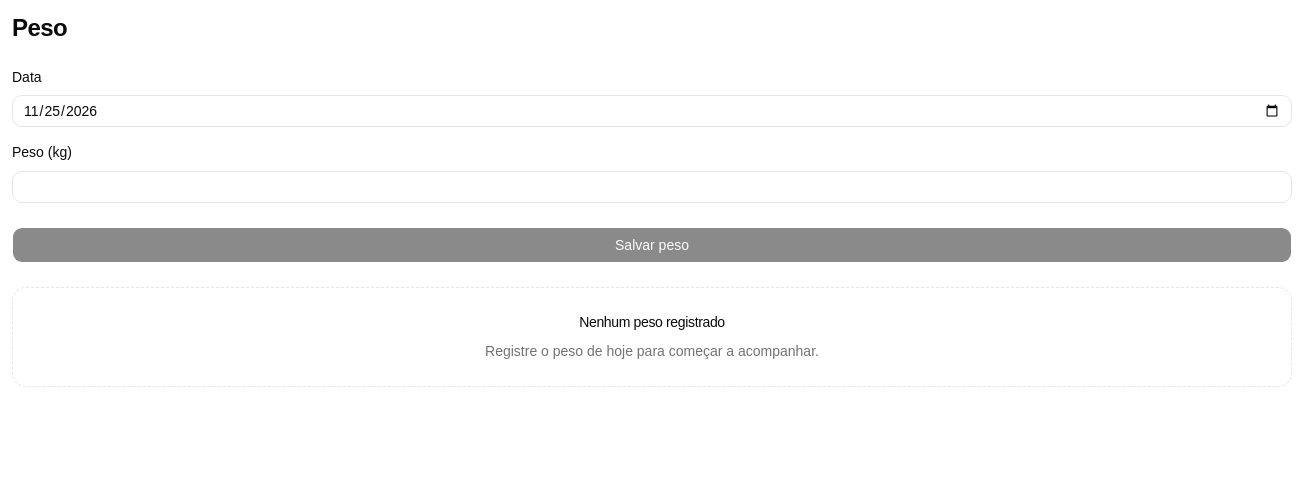
WeightPage › keeps the value and shows the problem when the server refuses the weight
expect the text "Nenhum peso registrado" is shown: met, box [579,312,725,332]
Type "82.4" into the number field labelled "Peso (kg)" at (652,186), box [12,170,1292,202]
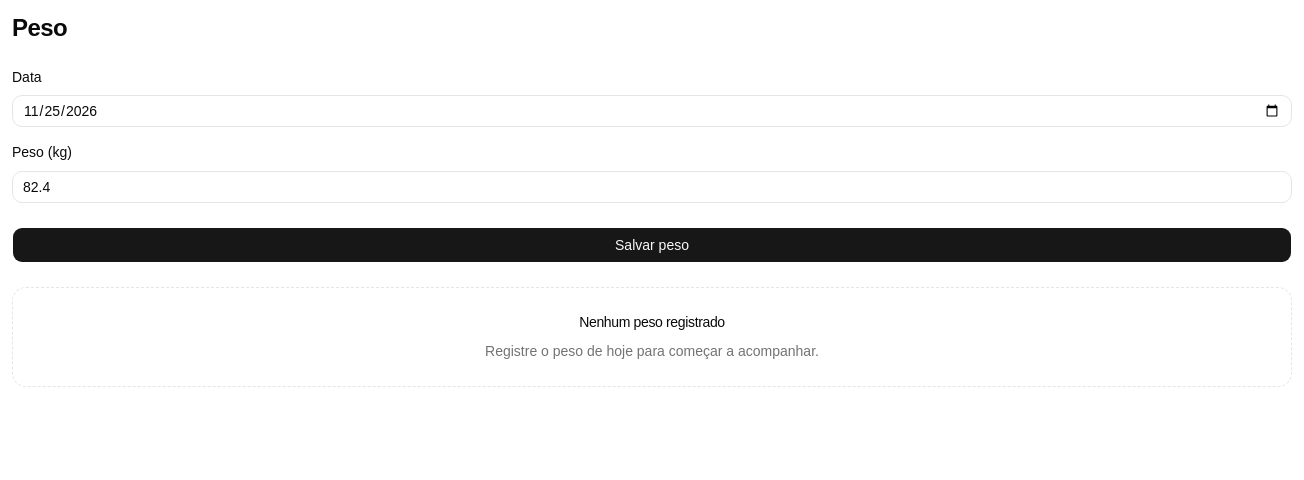
Click the button "Salvar peso" at (652,244), box [12,226,1292,262]
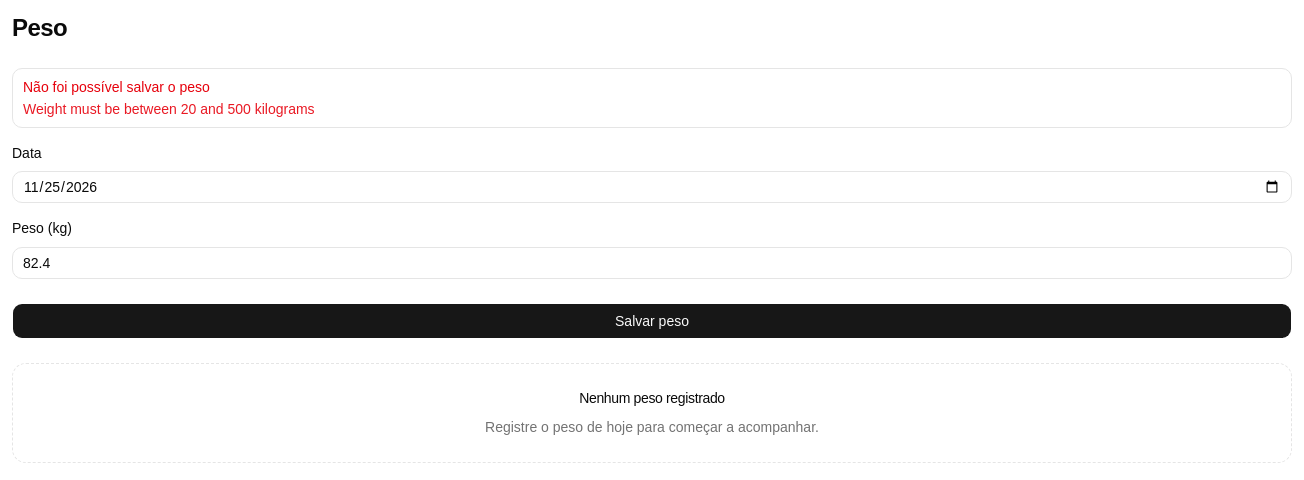
expect the text "Não foi possível salvar o peso" is shown: met, box [23,79,210,95]
expect the text "Weight must be between 20 and 500 kilograms" is shown: met, box [23,101,315,117]
